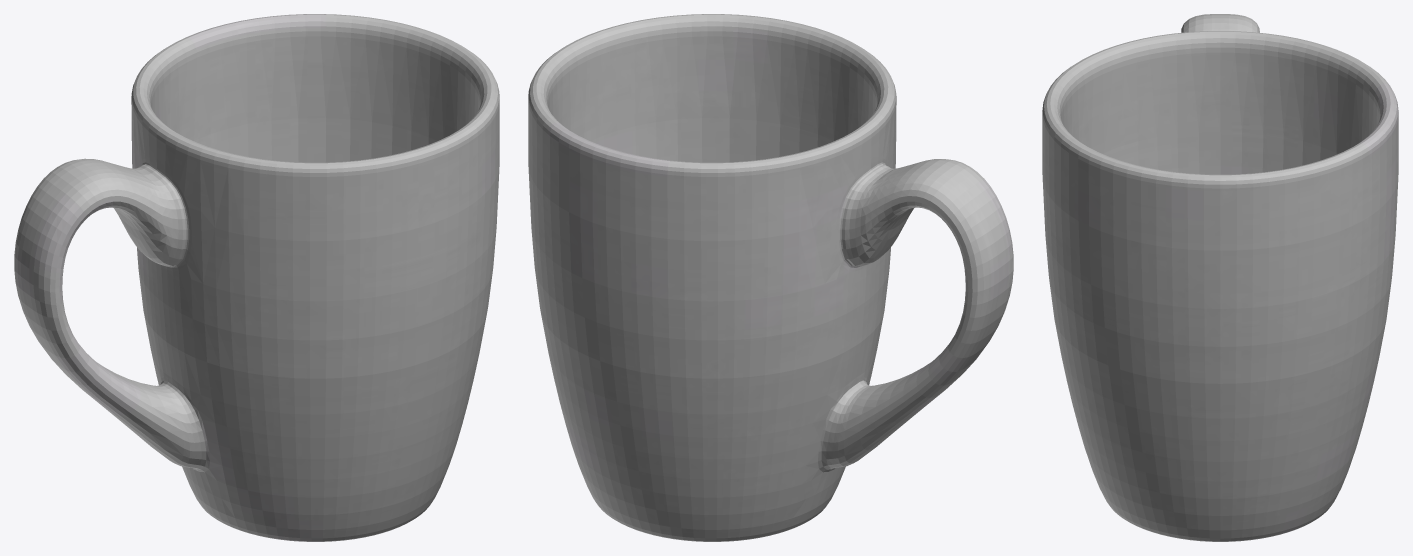
The picture shows the model from 3 angles, left to right: view 1: azimuth 30°, elevation 25°; view 2: azimuth 150°, elevation 25°; view 3: azimuth 270°, elevation 25°; orthographic projection. The views are drawn at different scales.
Visible parts, largest first — view 1: part_00; view 2: part_00; view 3: part_00.
Part boxes in pixels (<box>): part_00: <box>14,14,499,541</box>; part_00: <box>528,14,1013,541</box>; part_00: <box>1042,14,1398,541</box>.
Bounding box in the file's own units: 0.1188 × 0.1019 × 0.0842.
1 material, 1 textured.
